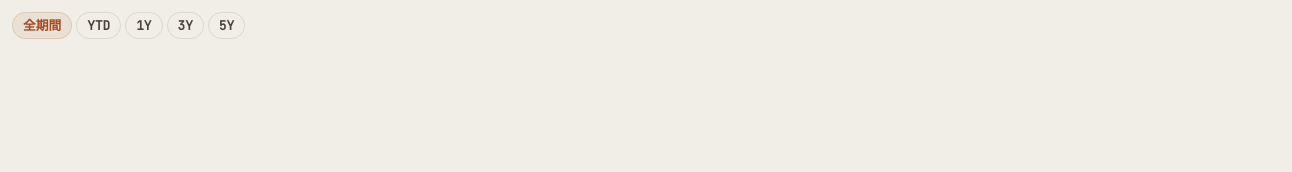
Test: SubperiodMetrics (issue #377) › 1Y を選ぶと選択期間の再計算指標と注記を表示する
Click the button "1Y": (144, 26) [125,12,162,39]
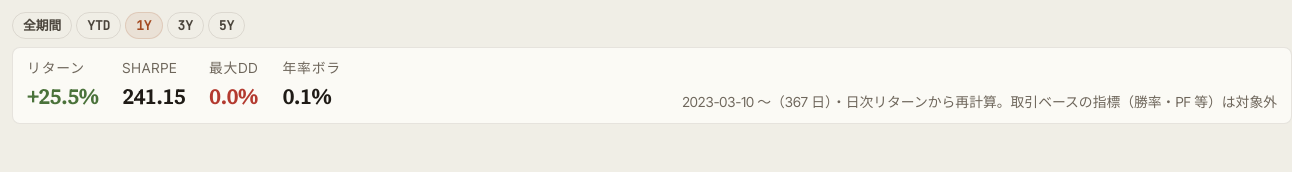
Now the element with test id "subperiod-metrics" shows "リターン", box [27,60,85,76]
Now the element with test id "subperiod-metrics" shows "Sharpe", box [122,60,178,76]
Now the element with test id "subperiod-metrics" shows "最大DD", box [209,60,258,76]
# 全期間に戻すと消える
Click the button "全期間": (42, 26) [12,12,72,39]
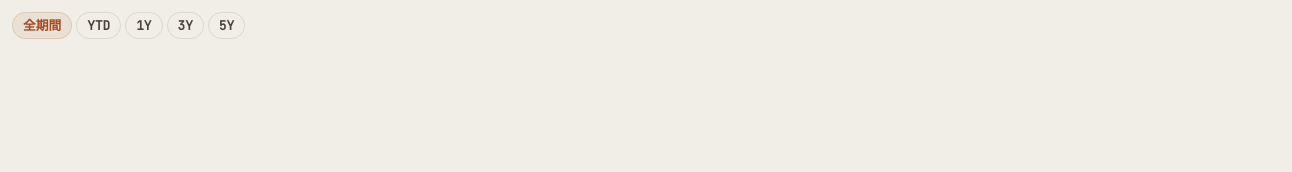
Now the element with test id "subperiod-metrics" is gone
